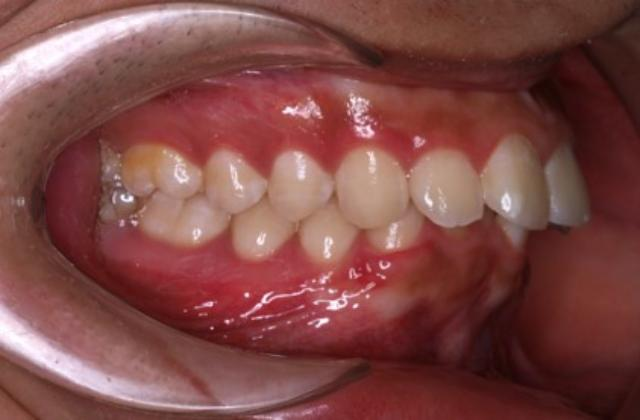canine class I: (299, 140, 426, 274)
molar class I: (108, 138, 232, 255)
